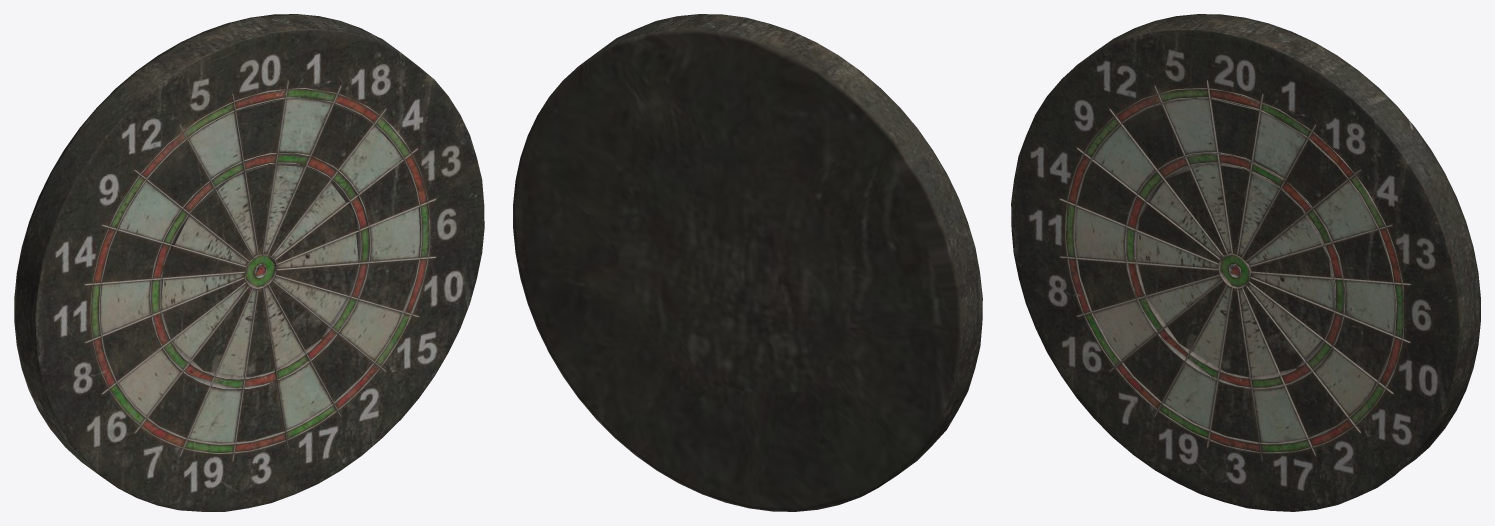
Rendered from dartboard.gltf.
3 views of the same model, side by side, from view 1: azimuth 30°, elevation 25°; view 2: azimuth 150°, elevation 25°; view 3: azimuth 330°, elevation 25° (orthographic).
Size of the model in its own units: 0.4507 by 0.4507 by 0.0394.
1 material, 1 textured.
